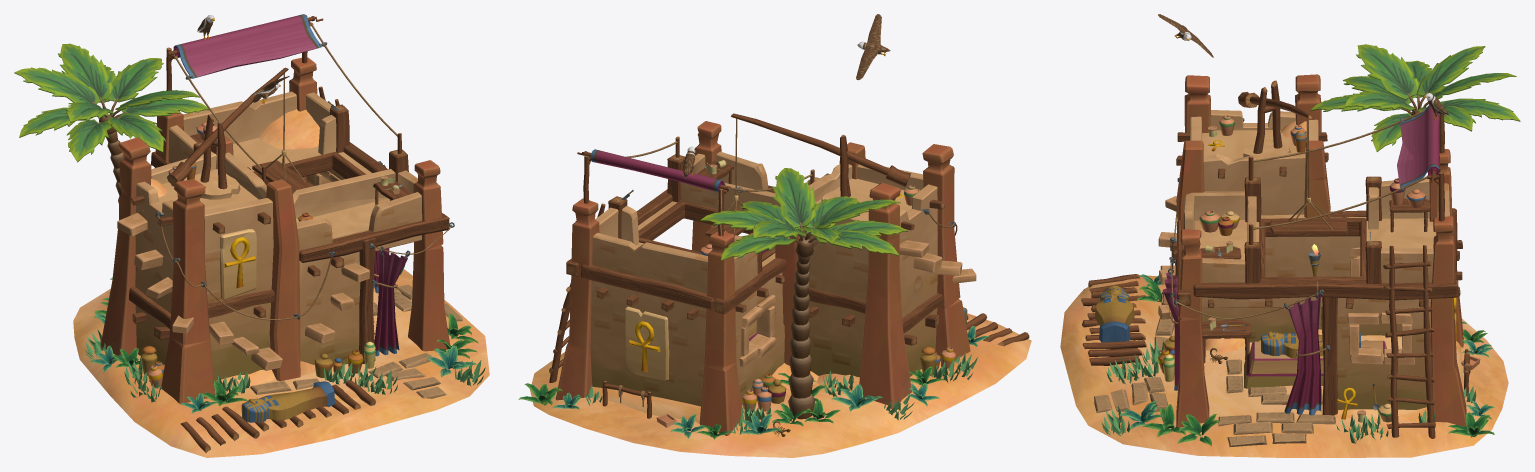
Rendered from mummy.glb.
3 renders of one model, left to right at view 1: azimuth 30°, elevation 25°; view 2: azimuth 150°, elevation 25°; view 3: azimuth 270°, elevation 25°, orthographic. The views are drawn at different scales.
Visible parts, largest first — view 1: polySurface4038; view 2: polySurface4038; view 3: polySurface4038.
Boxes of the visible parts, <box> form: polySurface4038: <box>14,14,489,457</box>; polySurface4038: <box>518,14,1031,457</box>; polySurface4038: <box>1060,14,1520,457</box>.
Size of the model in its own units: 275 by 238 by 292.
Materials: 3 (3 with a texture image).
